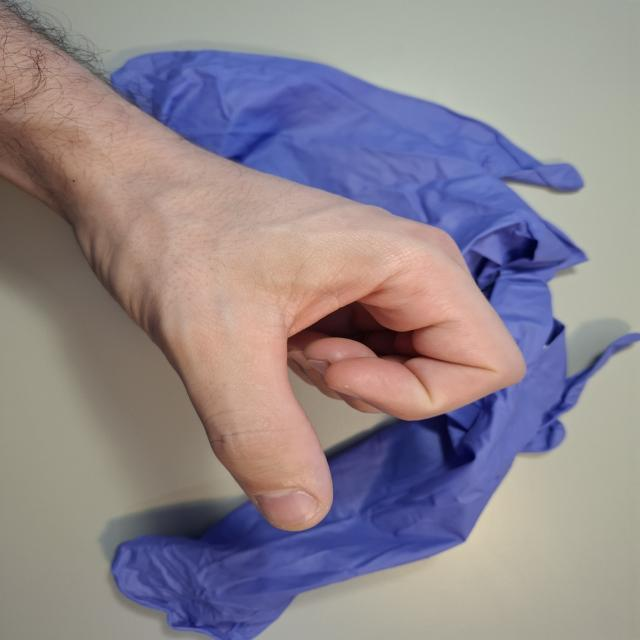glove_off: (39, 120, 530, 534)
